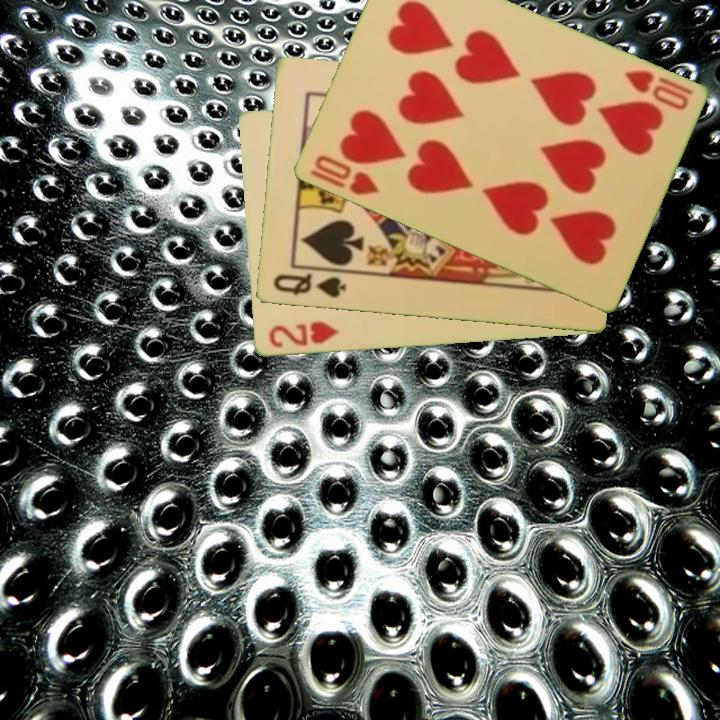10h: (620, 66, 695, 114), (306, 151, 381, 198)
2h: (264, 318, 342, 351)
Qs: (269, 269, 349, 301)
